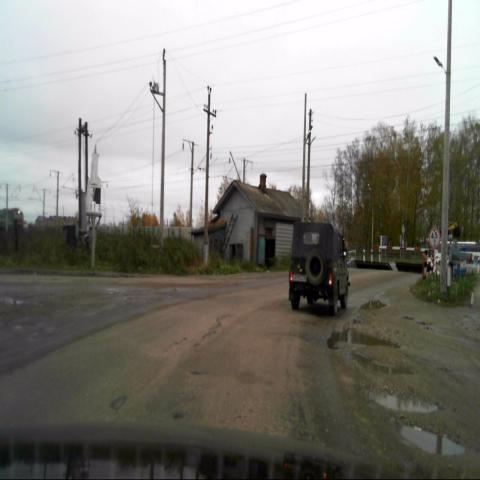3_13: (428, 227, 440, 248)
